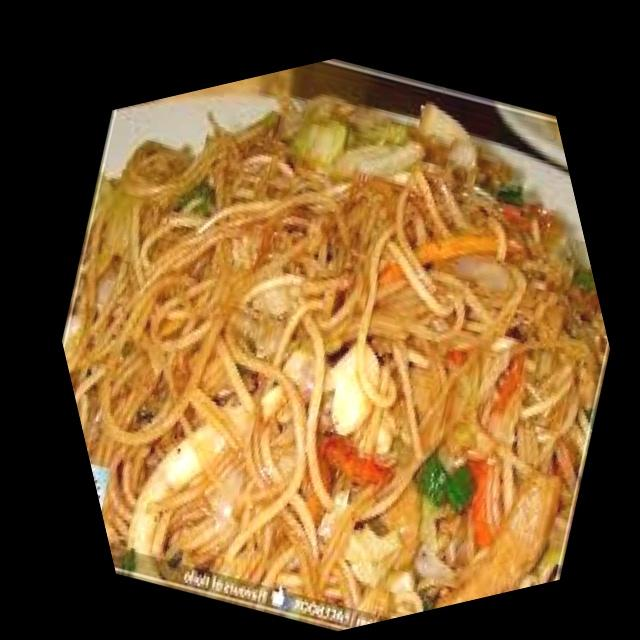pancit bihon: (59, 108, 624, 606)
